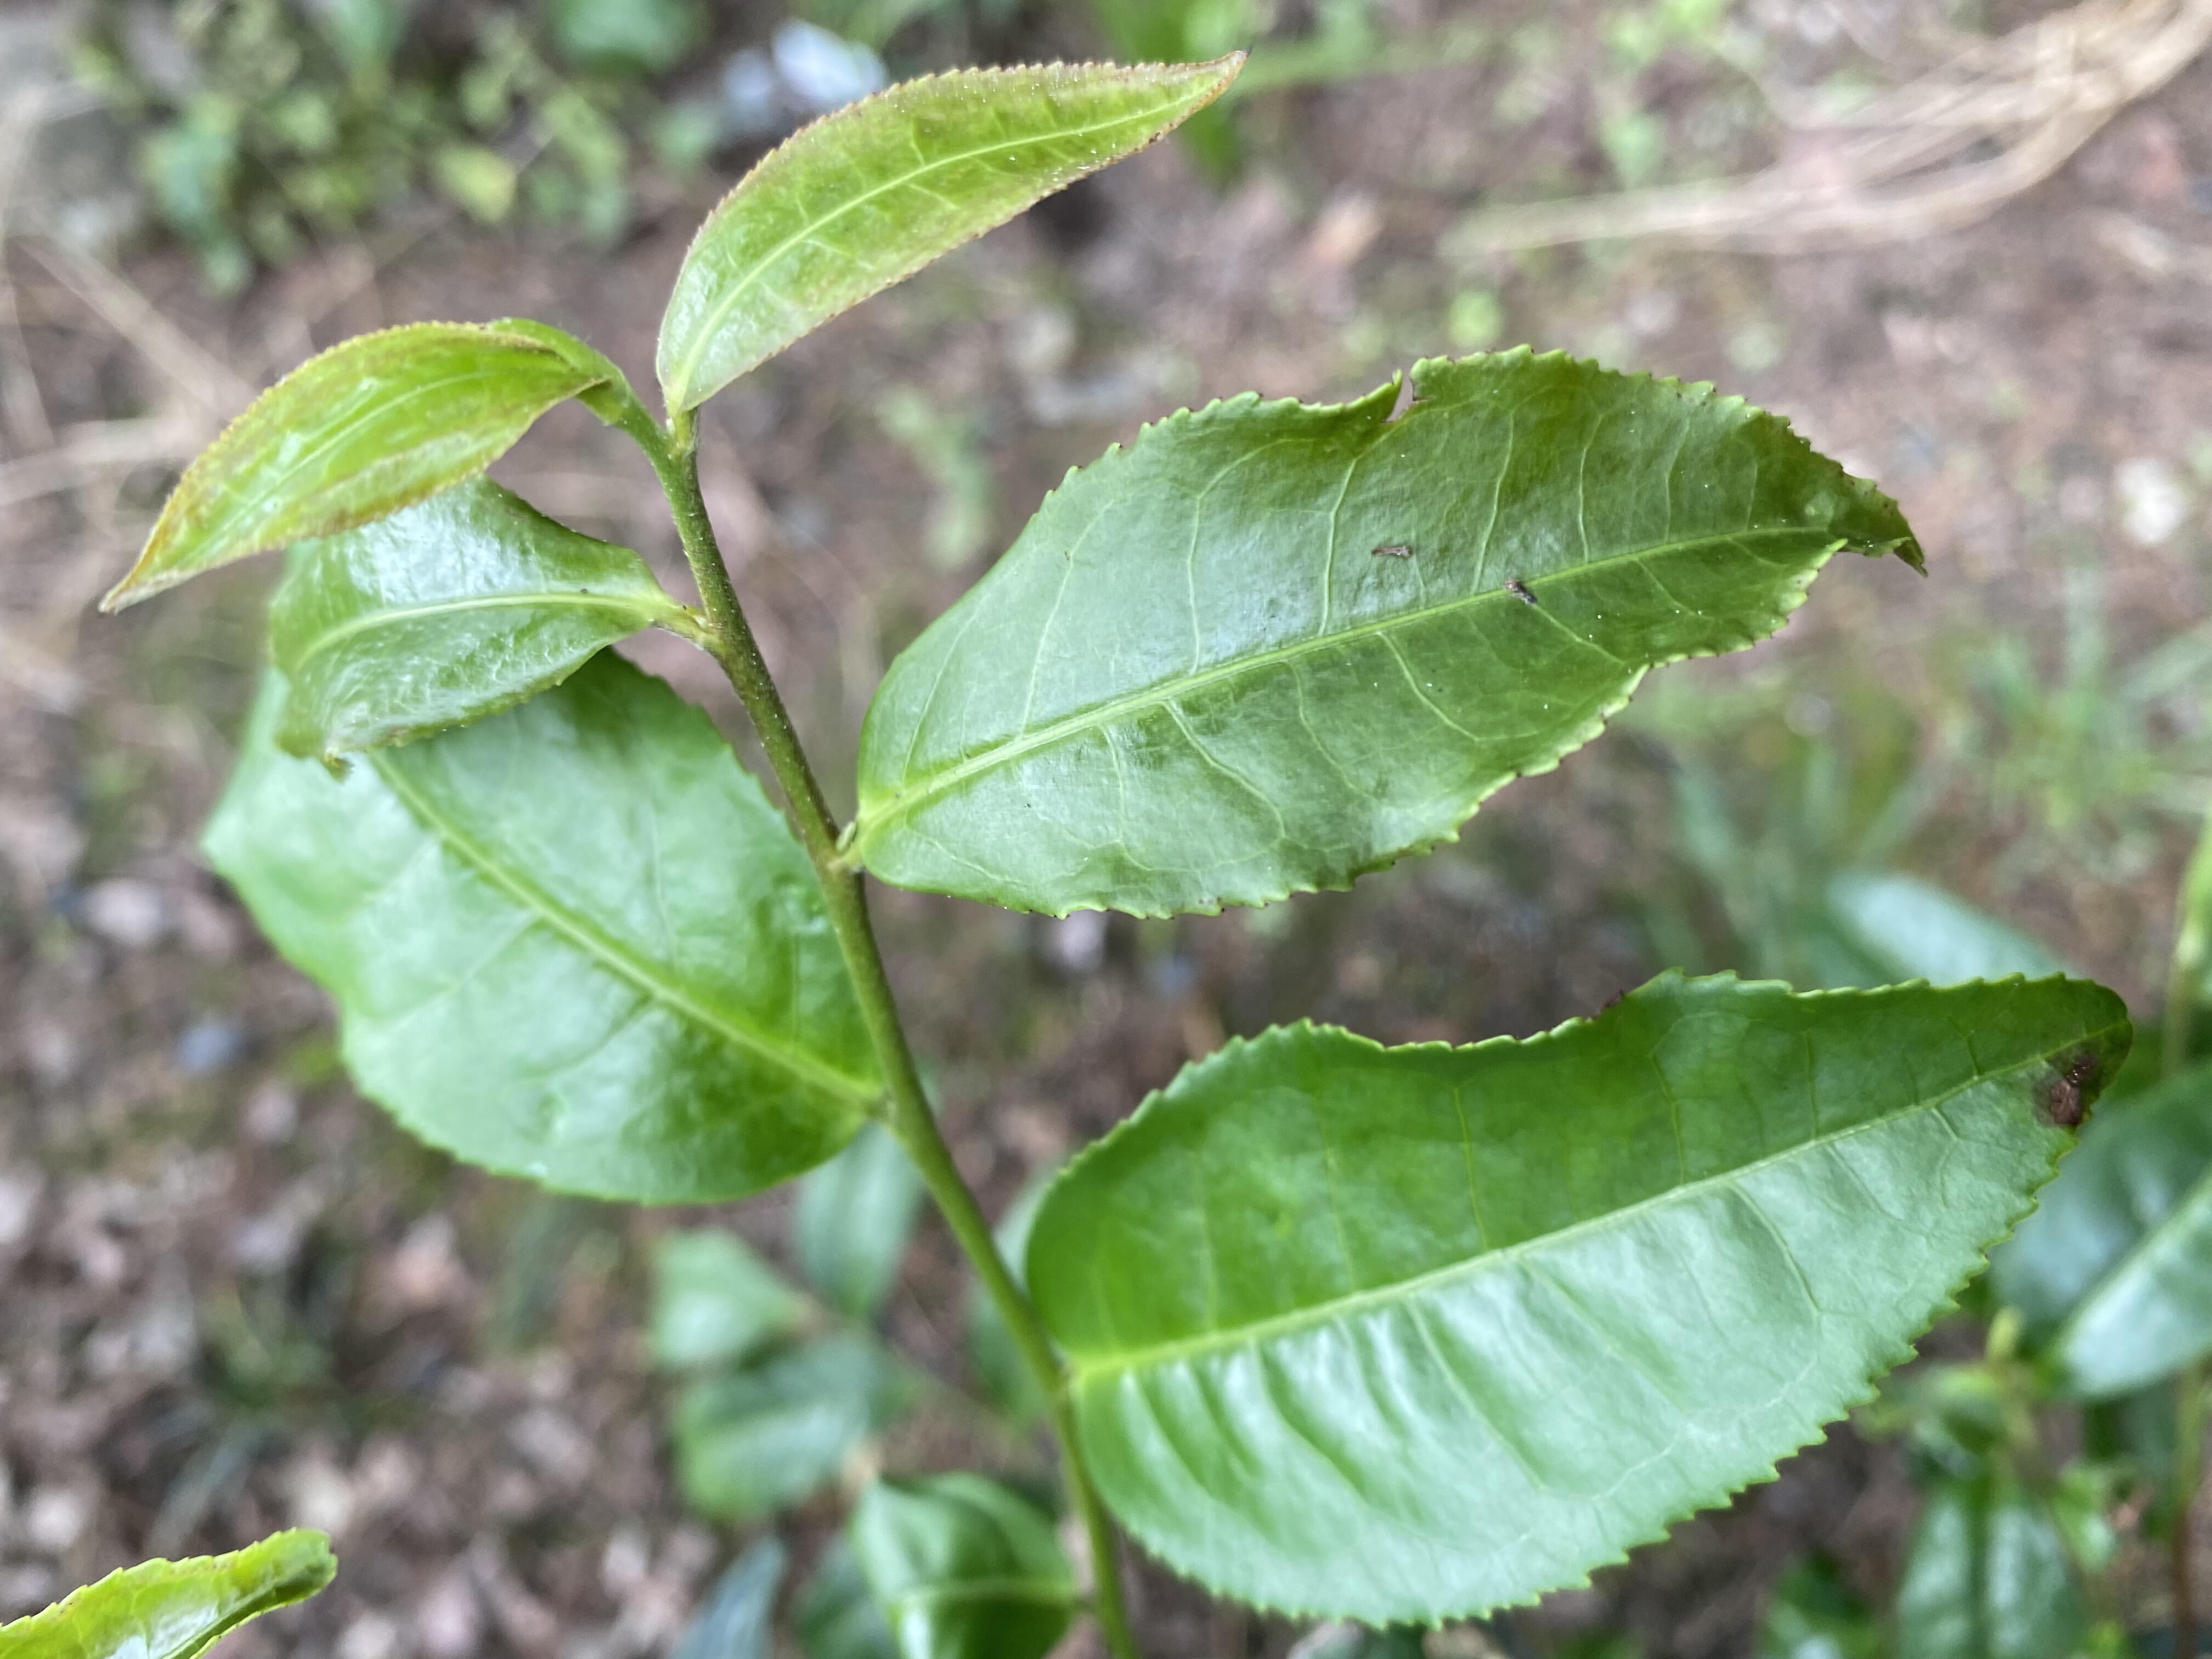chihuo_low: (850, 342, 1932, 924)
tanju_high: (1019, 962, 2135, 1631)
tanju_low: (644, 40, 1263, 422), (87, 321, 585, 620)
